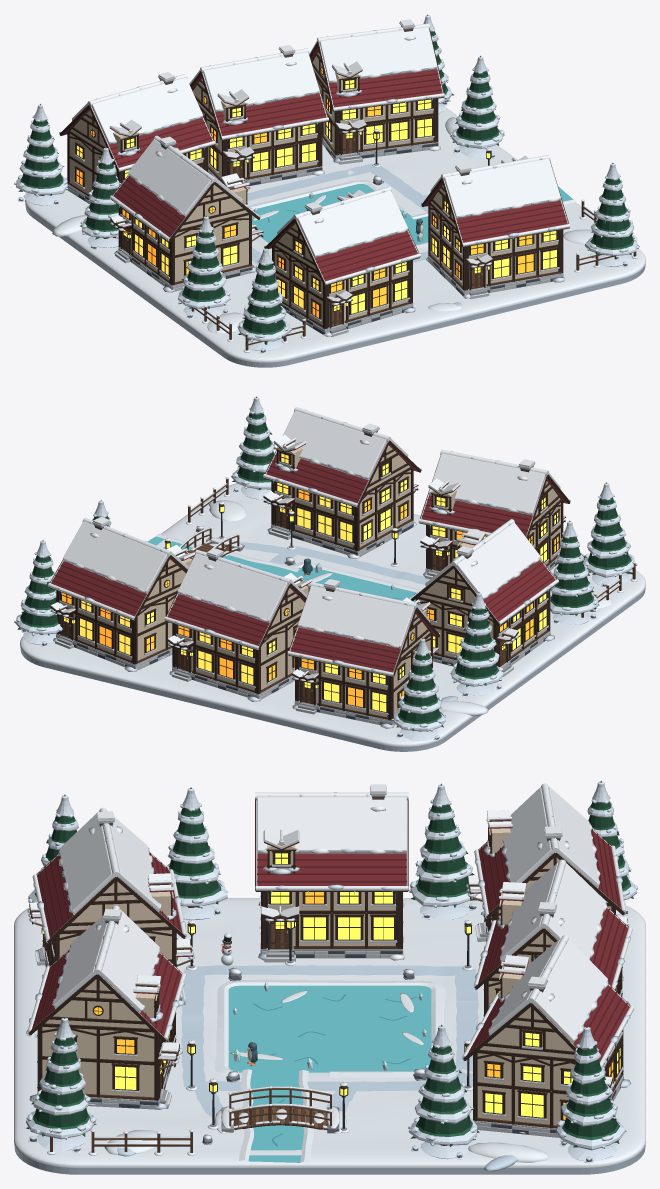
The model's file is winter_village_sample_v2.glb.
3 views of the same model, one above another, from view 1: azimuth 30°, elevation 25°; view 2: azimuth 150°, elevation 25°; view 3: azimuth 270°, elevation 25° (orthographic). The views are drawn at different scales.
Visible parts, largest first — view 1: PR_SnowBase, NC_Snow_Roof_Rear.005, NC_Snow_Roof_Front.002, NC_Snow_Roof_Rear.004, NC_Snow_Roof_Front.001, NC_Snow_Roof_Front, NC_Snow_Roof_Rear.003, NC_Roof.005, NC_Roof.004, NC_Roof.002, NC_Roof.001, NC_Wall_Plaster.003 (+42 smaller); view 2: PR_SnowBase, NC_Snow_Roof_Rear, NC_Snow_Roof_Rear.001, NC_Snow_Roof_Front.004, NC_Snow_Roof_Rear.002, NC_Snow_Roof_Front.005, NC_Snow_Roof_Rear.003, NC_Roof, NC_Roof.001, NC_Roof.002, NC_Roof.005, NC_Roof.004 (+43 smaller); view 3: PR_SnowBase, SP_Pond_Ice, SP_SnowPaths, NC_Snow_Roof_Front.003, NC_Wall_Plaster.005, NC_Roof.003, NC_Wall_Plaster.002, NC_Snow_Roof_Rear.002, SP_Bridge, SP_Pond_SnowBanks, SnowPine_Snow.002, SnowPine_Snow.003 (+56 smaller).
Part boxes in pixels (x1=…): PR_SnowBase: x1=25, y1=108, x2=645, y2=367; NC_Snow_Roof_Rear.005: x1=444, y1=158, x2=560, y2=218; NC_Snow_Roof_Front.002: x1=320, y1=27, x2=437, y2=82; NC_Snow_Roof_Rear.004: x1=297, y1=190, x2=408, y2=257; NC_Snow_Roof_Front.001: x1=203, y1=52, x2=319, y2=112; NC_Snow_Roof_Front: x1=91, y1=77, x2=203, y2=144; NC_Snow_Roof_Rear.003: x1=128, y1=139, x2=211, y2=216; NC_Roof.005: x1=421, y1=160, x2=569, y2=247; NC_Roof.004: x1=264, y1=218, x2=419, y2=285; NC_Roof.002: x1=309, y1=29, x2=444, y2=111; NC_Roof.001: x1=190, y1=54, x2=328, y2=140; NC_Wall_Plaster.003: x1=123, y1=185, x2=248, y2=282; PR_SnowBase: x1=20, y1=483, x2=645, y2=751; NC_Snow_Roof_Rear: x1=298, y1=585, x2=414, y2=648; NC_Snow_Roof_Rear.001: x1=177, y1=553, x2=287, y2=622; NC_Snow_Roof_Front.004: x1=428, y1=453, x2=545, y2=515; NC_Snow_Roof_Rear.002: x1=62, y1=521, x2=167, y2=593; NC_Snow_Roof_Front.005: x1=277, y1=410, x2=386, y2=479; NC_Snow_Roof_Rear.003: x1=456, y1=522, x2=540, y2=599; NC_Roof: x1=288, y1=588, x2=439, y2=676; NC_Roof.001: x1=165, y1=583, x2=306, y2=650; NC_Roof.002: x1=49, y1=555, x2=187, y2=620; NC_Roof.005: x1=264, y1=440, x2=421, y2=507; NC_Roof.004: x1=419, y1=456, x2=570, y2=538; PR_SnowBase: x1=14, y1=898, x2=645, y2=1174; SP_Pond_Ice: x1=228, y1=985, x2=431, y2=1072; SP_SnowPaths: x1=181, y1=965, x2=478, y2=1120; NC_Snow_Roof_Front.003: x1=257, y1=797, x2=406, y2=854; NC_Wall_Plaster.005: x1=42, y1=979, x2=154, y2=1097; NC_Roof.003: x1=255, y1=798, x2=408, y2=891; NC_Wall_Plaster.002: x1=477, y1=1007, x2=616, y2=1125; NC_Snow_Roof_Rear.002: x1=534, y1=939, x2=608, y2=1043; SP_Bridge: x1=214, y1=1086, x2=346, y2=1133; SP_Pond_SnowBanks: x1=214, y1=979, x2=445, y2=1077; SnowPine_Snow.002: x1=556, y1=1027, x2=627, y2=1163; SnowPine_Snow.003: x1=408, y1=1025, x2=477, y2=1159.
Size of the model in its own units: 33.86 by 8.88 by 32.
